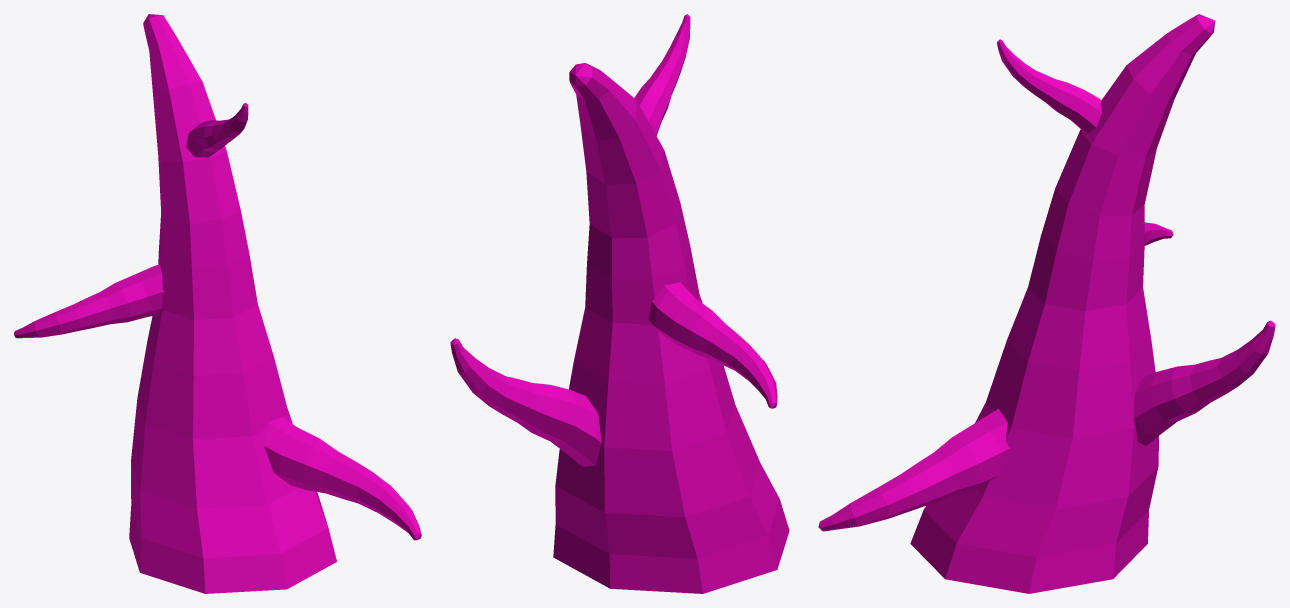
Rendered from coral2.fbx.
3 renders of one model, left to right at view 1: azimuth 30°, elevation 25°; view 2: azimuth 150°, elevation 25°; view 3: azimuth 270°, elevation 25°, orthographic. The views are drawn at different scales.
Parts seen in each view (by area): view 1: coral2; view 2: coral2; view 3: coral2.
Boxes of the visible parts, left/top/right/bottom form: coral2: left=14, top=14, right=421, bottom=593; coral2: left=450, top=14, right=789, bottom=593; coral2: left=818, top=14, right=1275, bottom=593.
Size of the model in its own units: 67.53 by 121 by 94.6.
